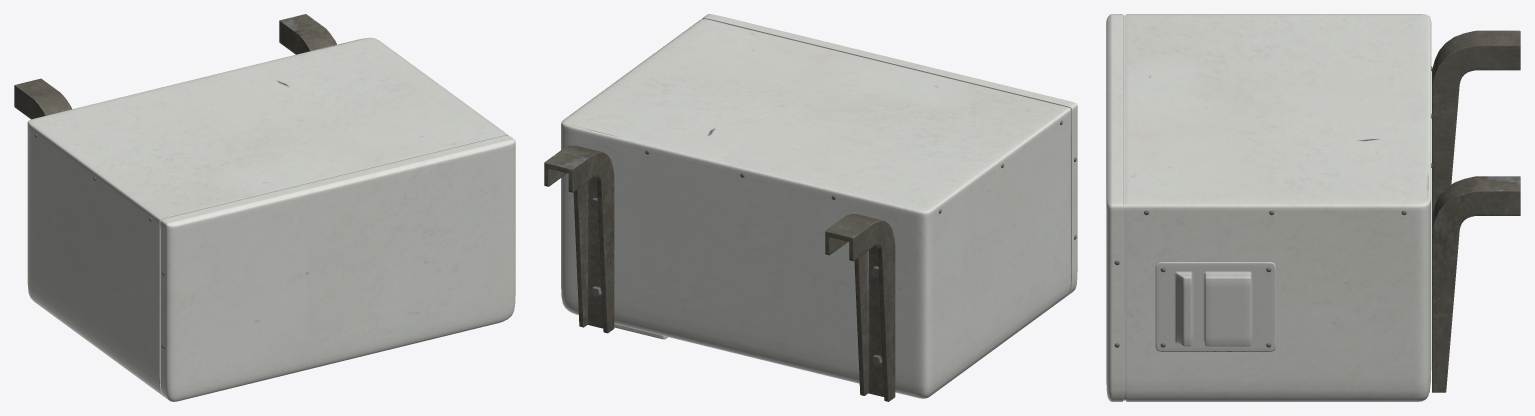
The model's file is 10780_AirConditioner_V4_LOD3.obj.
3 views of the same model, side by side, from view 1: azimuth 30°, elevation 25°; view 2: azimuth 150°, elevation 25°; view 3: azimuth 270°, elevation 25° (orthographic). The views are drawn at different scales.
Parts seen in each view (by area): view 1: Box001, Box003, Box004; view 2: Box001, Box003, Box004; view 3: Box001, Box002, Box004, Box003.
Part boxes in pixels (bbox=[...]): Box001: bbox=[27, 37, 515, 401]; Box003: bbox=[14, 78, 71, 119]; Box004: bbox=[279, 14, 336, 54]; Box001: bbox=[561, 14, 1077, 398]; Box003: bbox=[825, 214, 895, 401]; Box004: bbox=[544, 145, 614, 333]; Box001: bbox=[1106, 14, 1431, 401]; Box002: bbox=[1155, 261, 1275, 351]; Box004: bbox=[1432, 176, 1520, 392]; Box003: bbox=[1432, 30, 1520, 215].
Size of the model in its own units: 23.6 by 11.81 by 20.82.
Materials: 2 (2 with a texture image).
